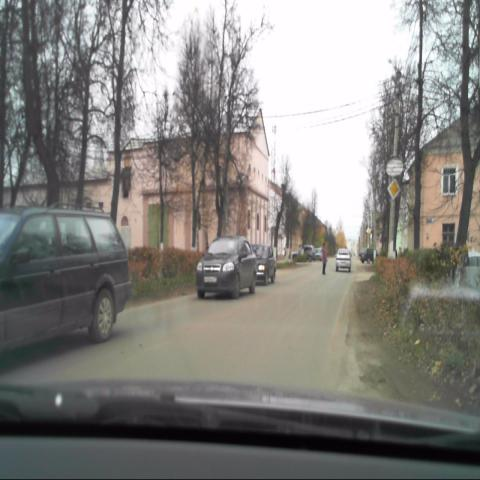2_1: (388, 176, 400, 200)
